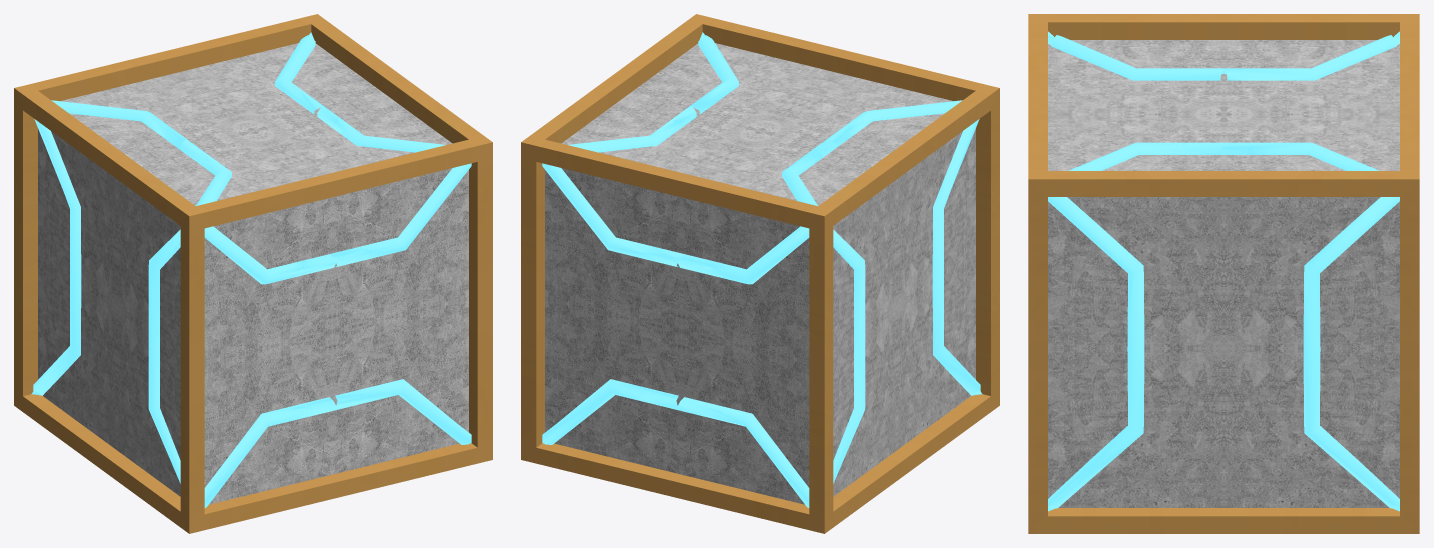
3 renders of one model, left to right at view 1: azimuth 30°, elevation 25°; view 2: azimuth 150°, elevation 25°; view 3: azimuth 270°, elevation 25°, orthographic. The views are drawn at different scales.
Parts seen in each view (by area): view 1: Cube; view 2: Cube; view 3: Cube.
Part boxes in pixels (x1,y1,x2,y2): Cube: (14,14,492,533); Cube: (521,14,999,533); Cube: (1028,14,1419,533).
Bounding box in the file's own units: 0.4 × 0.4 × 0.4.
Materials: 4 (2 with a texture image).
